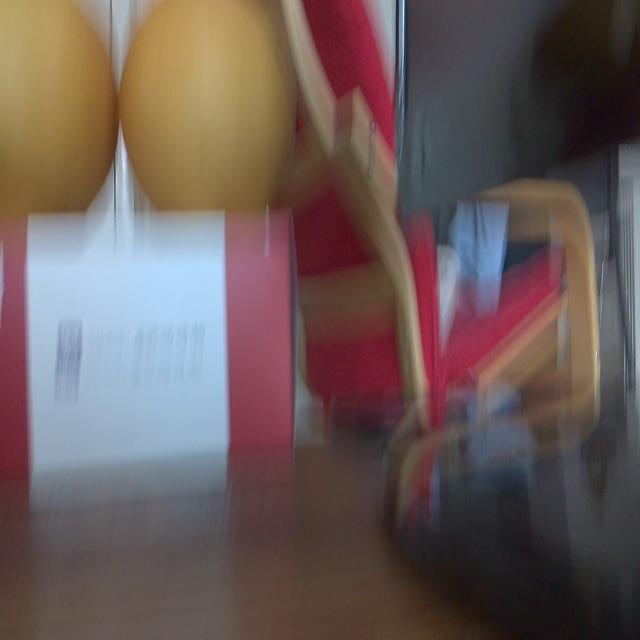pear: (117, 0, 296, 204), (0, 0, 116, 208)
